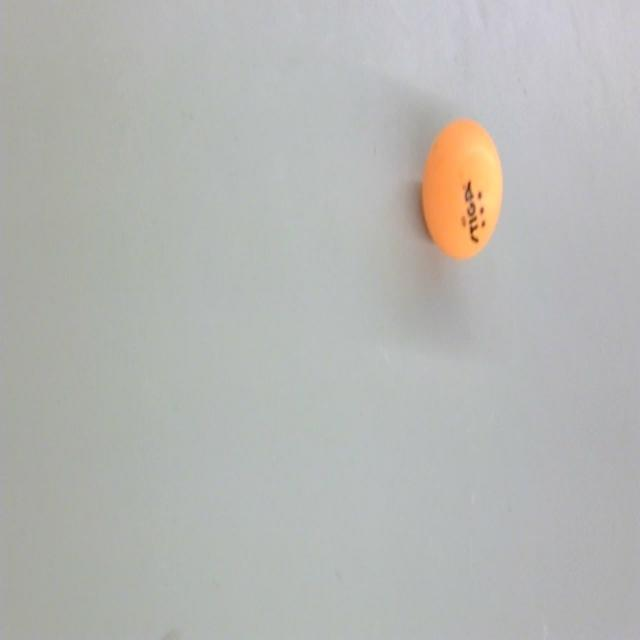ball: (419, 118, 504, 264)
